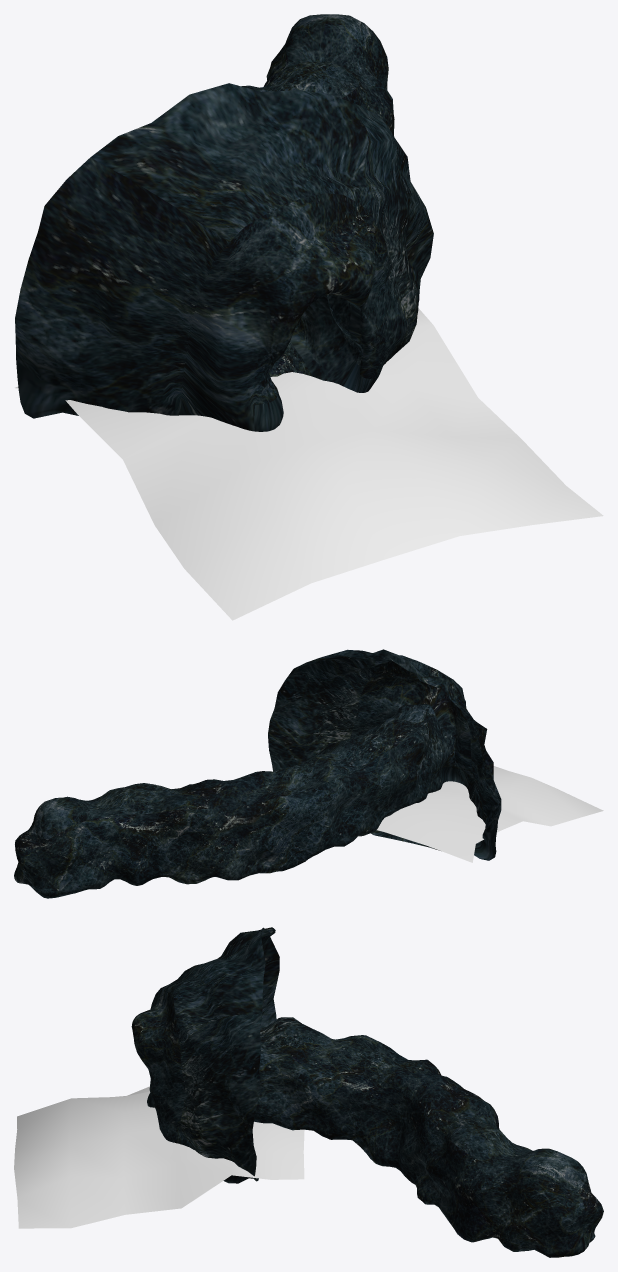
File: lamina_cave_2.glb
3 views of the same model, one above another, from view 1: azimuth 30°, elevation 25°; view 2: azimuth 150°, elevation 25°; view 3: azimuth 270°, elevation 25° (orthographic). The views are drawn at different scales.
Visible parts, largest first — view 1: LaminaCave2, Grass; view 2: LaminaCave2, Grass; view 3: LaminaCave2, Grass.
Boxes of the visible parts, bbox=[...] form: LaminaCave2: bbox=[15, 14, 433, 431]; Grass: bbox=[15, 308, 603, 620]; LaminaCave2: bbox=[14, 649, 501, 898]; Grass: bbox=[377, 766, 603, 862]; LaminaCave2: bbox=[131, 927, 603, 1257]; Grass: bbox=[14, 1086, 304, 1228].
Bounding box in the file's own units: 17.7 × 10.38 × 23.39.
Materials: 1 (1 with a texture image).
